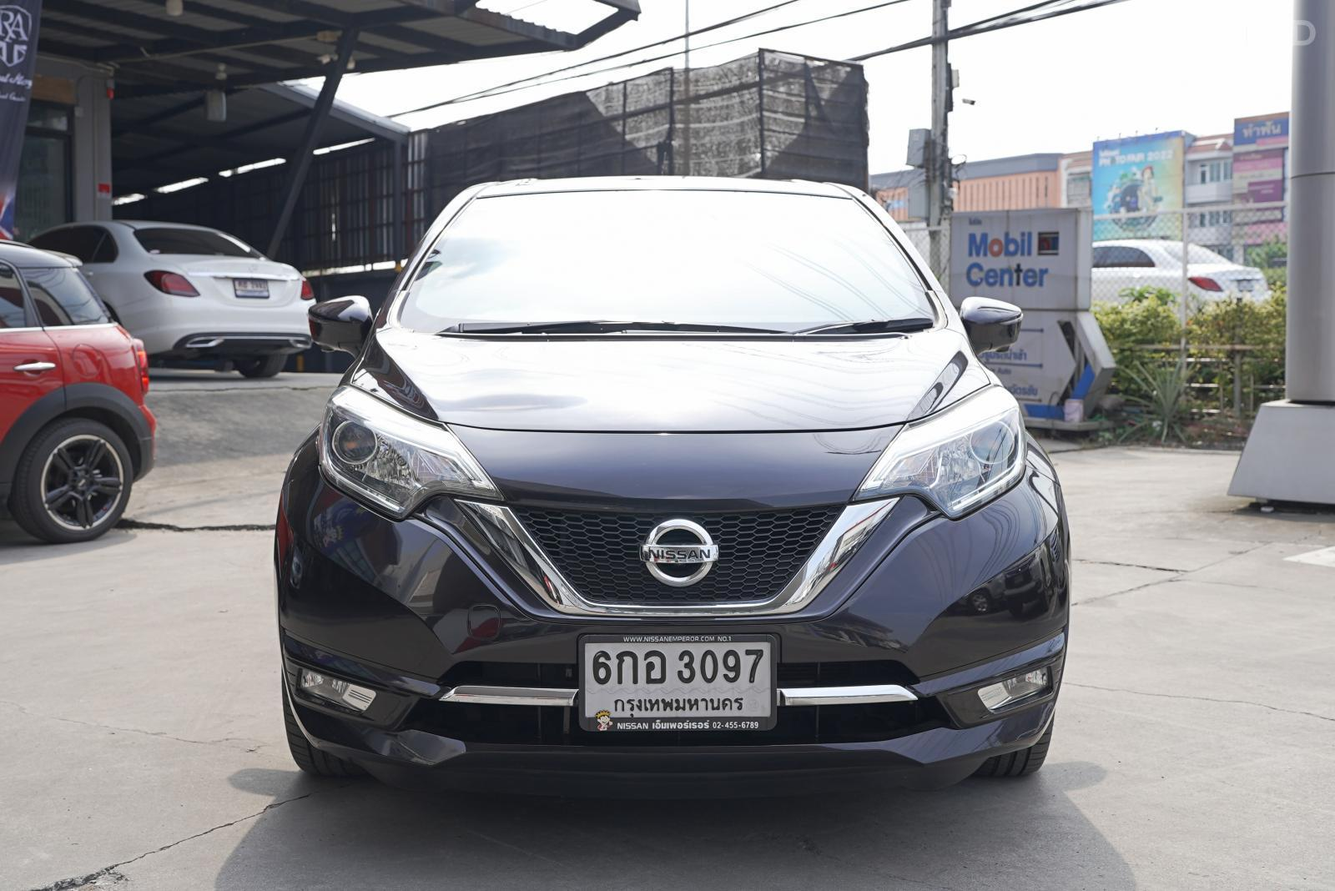license-plate: (575, 622, 782, 743)
